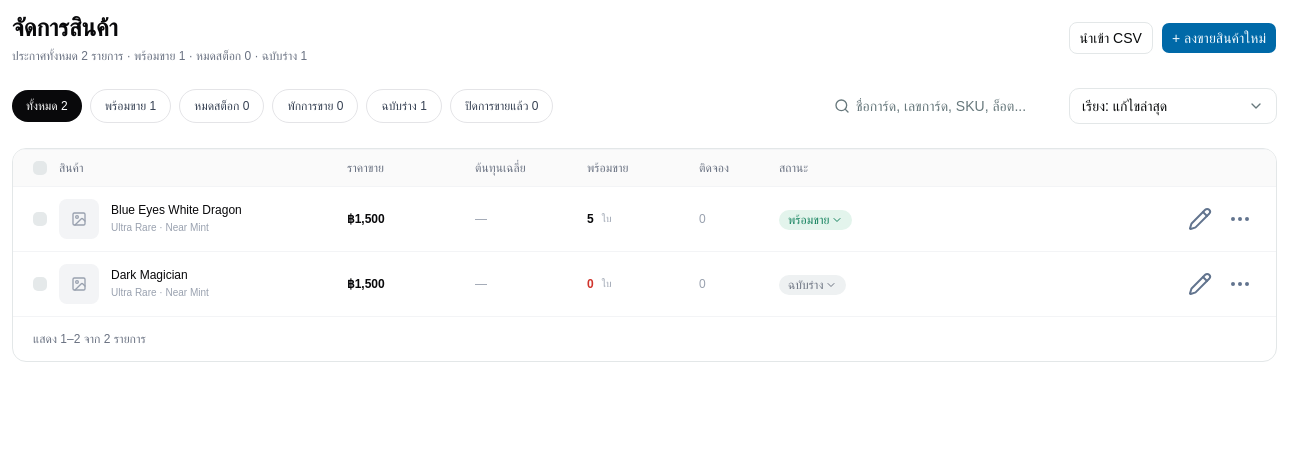
ProductsContent Integration › shows the bulk bar while rows are selected
Click the checkbox named "เลือกสินค้า: Blue Eyes White Dragon": point(40, 219) x1=33 y1=212 x2=47 y2=226
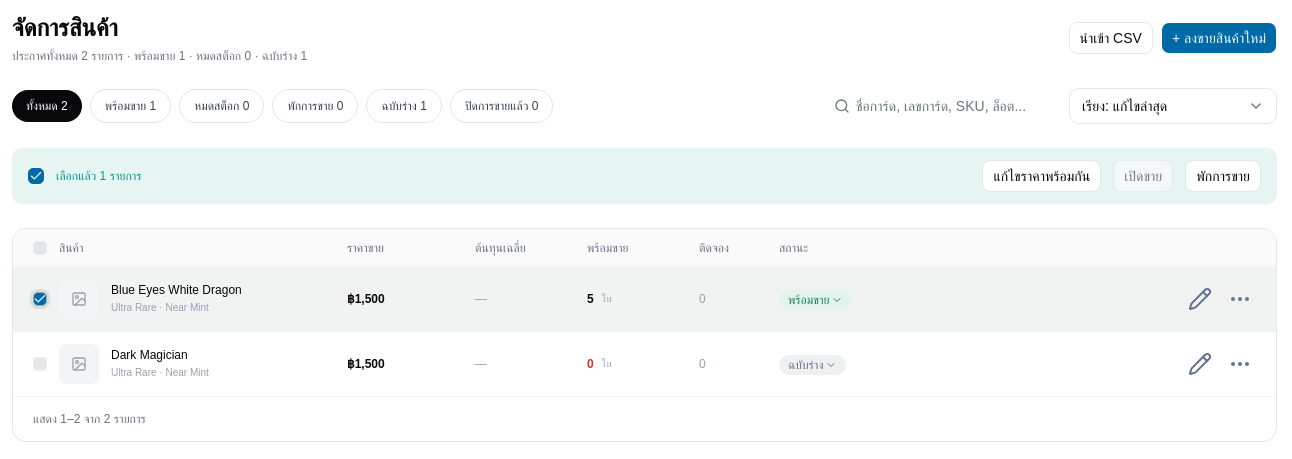
Now the text "เลือกแล้ว 1 รายการ" is shown, box x1=56 y1=168 x2=142 y2=184
Click the checkbox named "เลือกสินค้า: Blue Eyes White Dragon": point(40, 299) x1=33 y1=292 x2=47 y2=306
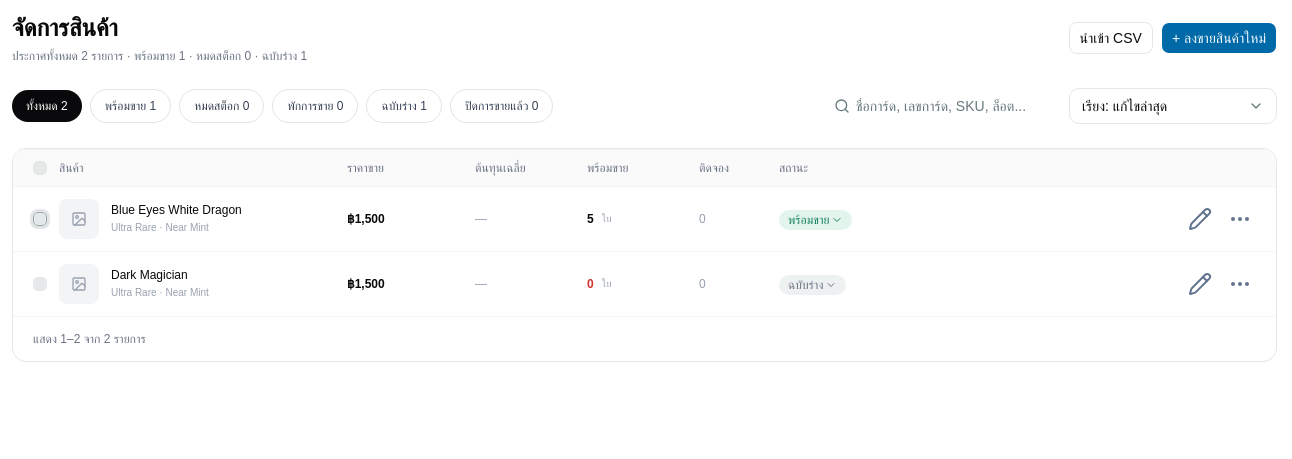
Now the text "เลือกแล้ว 1 รายการ" is gone
